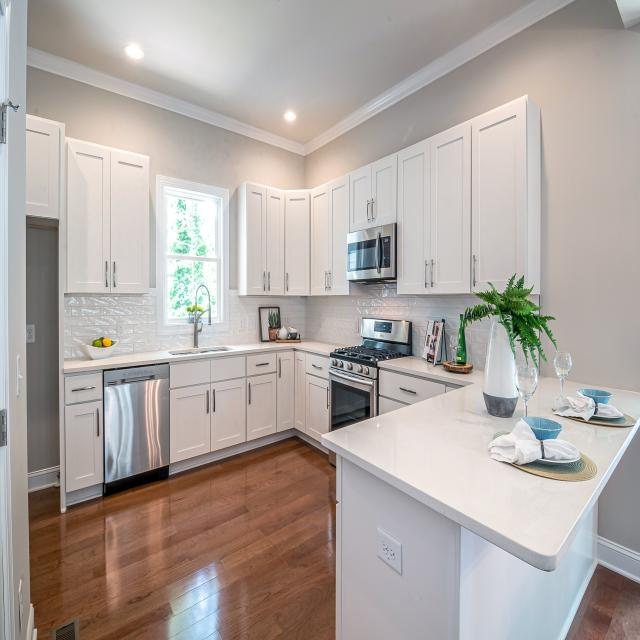Appliance_Microwave: (346, 223, 398, 282)
Appliance_Oven: (329, 317, 412, 432)
Appliance_Sink: (168, 284, 234, 356)
Cabinet_Flat: (170, 353, 276, 387), (377, 371, 447, 415), (65, 372, 102, 402), (305, 354, 330, 378)
Cabinet_Shaker: (242, 97, 529, 296), (26, 118, 152, 295), (170, 351, 330, 461), (65, 400, 103, 492)
Countertop_Solid_Surface: (318, 357, 640, 573), (63, 342, 338, 368)
